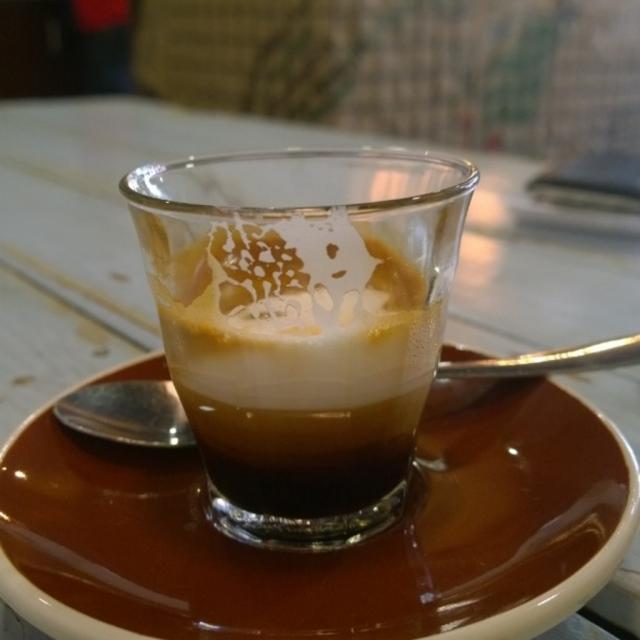Coffee: (172, 255, 448, 511)
